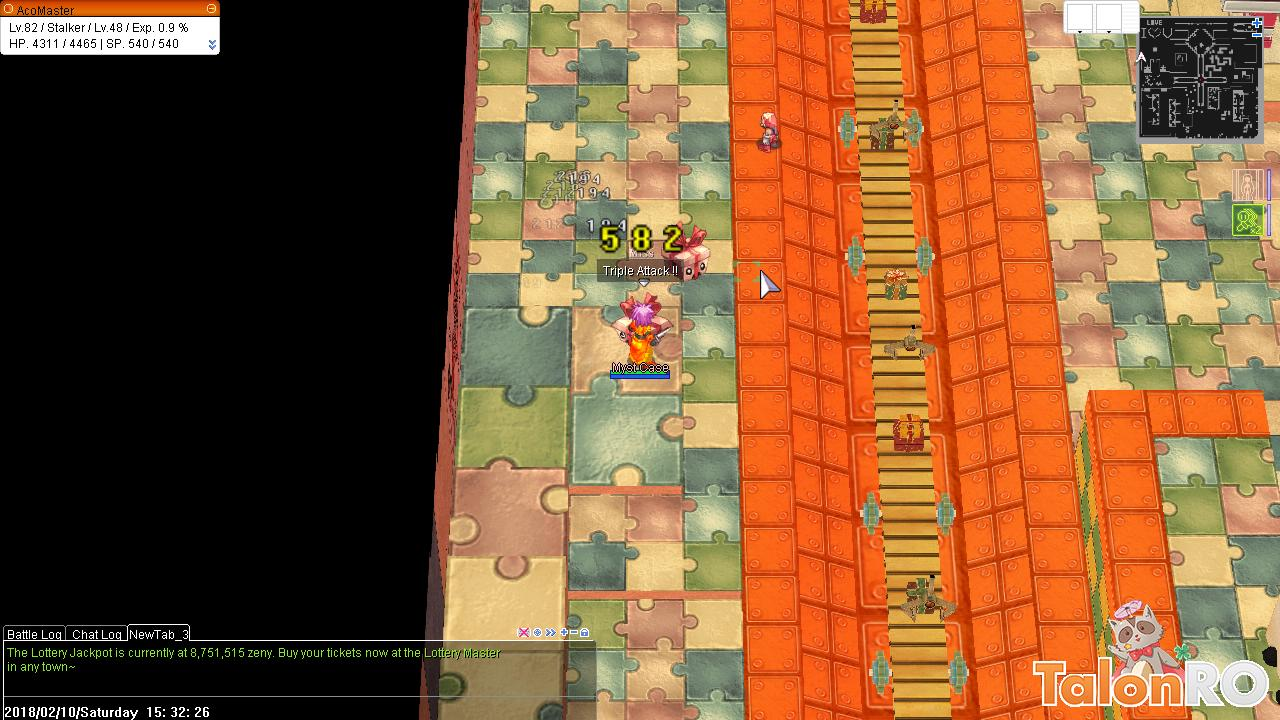myst_case: (608, 291, 677, 354), (658, 223, 709, 288)
